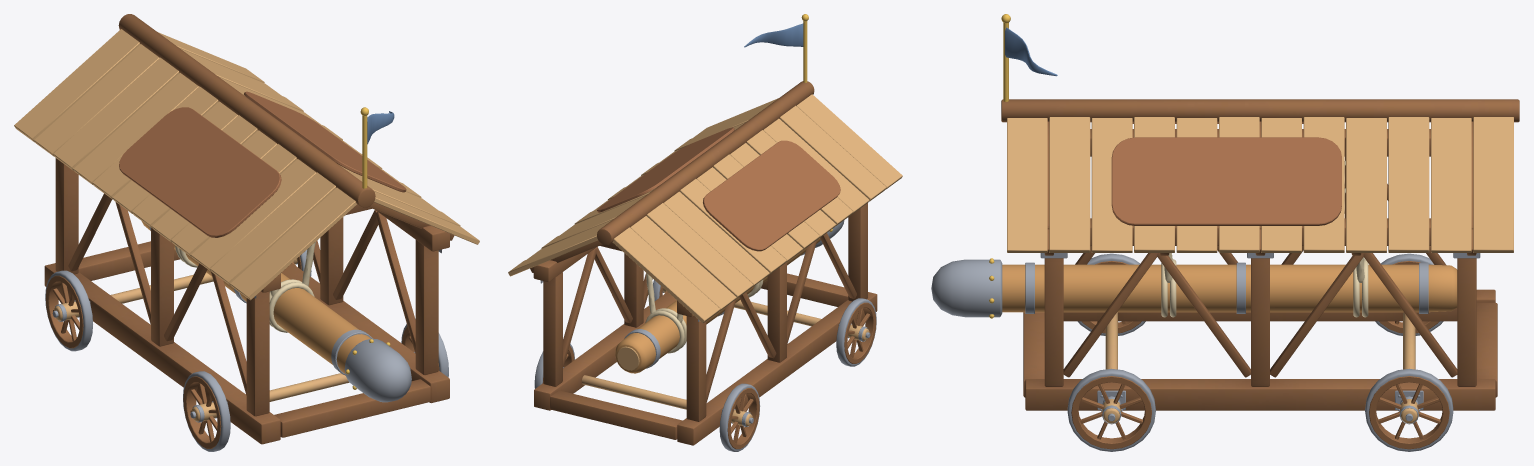
The model's file is battering-ram.glb.
3 views of the same model, side by side, from view 1: azimuth 30°, elevation 25°; view 2: azimuth 150°, elevation 25°; view 3: azimuth 270°, elevation 25° (orthographic). The views are drawn at different scales.
Parts seen in each view (by area): view 1: battering-ram_roof, battering-ram_body, battering-ram_ram_log, battering-ram_wheel_front_left, battering-ram_wheel_rear_left, battering-ram_wheel_front_right; view 2: battering-ram_roof, battering-ram_body, battering-ram_ram_log, battering-ram_wheel_front_left, battering-ram_wheel_rear_left, battering-ram_wheel_rear_right; view 3: battering-ram_roof, battering-ram_body, battering-ram_ram_log, battering-ram_wheel_front_right, battering-ram_wheel_rear_right, battering-ram_wheel_front_left, battering-ram_wheel_rear_left.
Boxes of the visible parts, box(x1,y1,x2,y2) form: battering-ram_roof: box(14, 29, 479, 402); battering-ram_body: box(44, 14, 454, 444); battering-ram_ram_log: box(141, 221, 411, 402); battering-ram_wheel_front_left: box(183, 371, 230, 451); battering-ram_wheel_rear_left: box(45, 270, 92, 351); battering-ram_wheel_front_right: box(401, 319, 448, 377); battering-ram_roof: box(508, 14, 902, 410); battering-ram_body: box(530, 81, 877, 445); battering-ram_ram_log: box(615, 220, 844, 373); battering-ram_wheel_front_left: box(836, 298, 876, 366); battering-ram_wheel_rear_left: box(719, 383, 760, 451); battering-ram_wheel_rear_right: box(534, 343, 574, 388); battering-ram_roof: box(1001, 14, 1513, 411); battering-ram_body: box(1001, 99, 1519, 410); battering-ram_ram_log: box(931, 258, 1457, 318); battering-ram_wheel_front_right: box(1067, 368, 1155, 451); battering-ram_wheel_rear_right: box(1365, 368, 1453, 451); battering-ram_wheel_front_left: box(1077, 253, 1145, 335); battering-ram_wheel_rear_left: box(1375, 253, 1443, 335).
Bounding box in the file's own units: 3.23 × 4.35 × 6.13.
9 materials, 1 textured.
